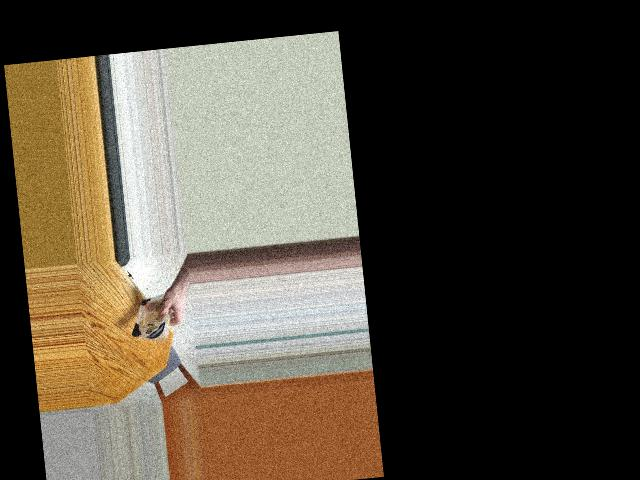cheese: (131, 288, 171, 340)
